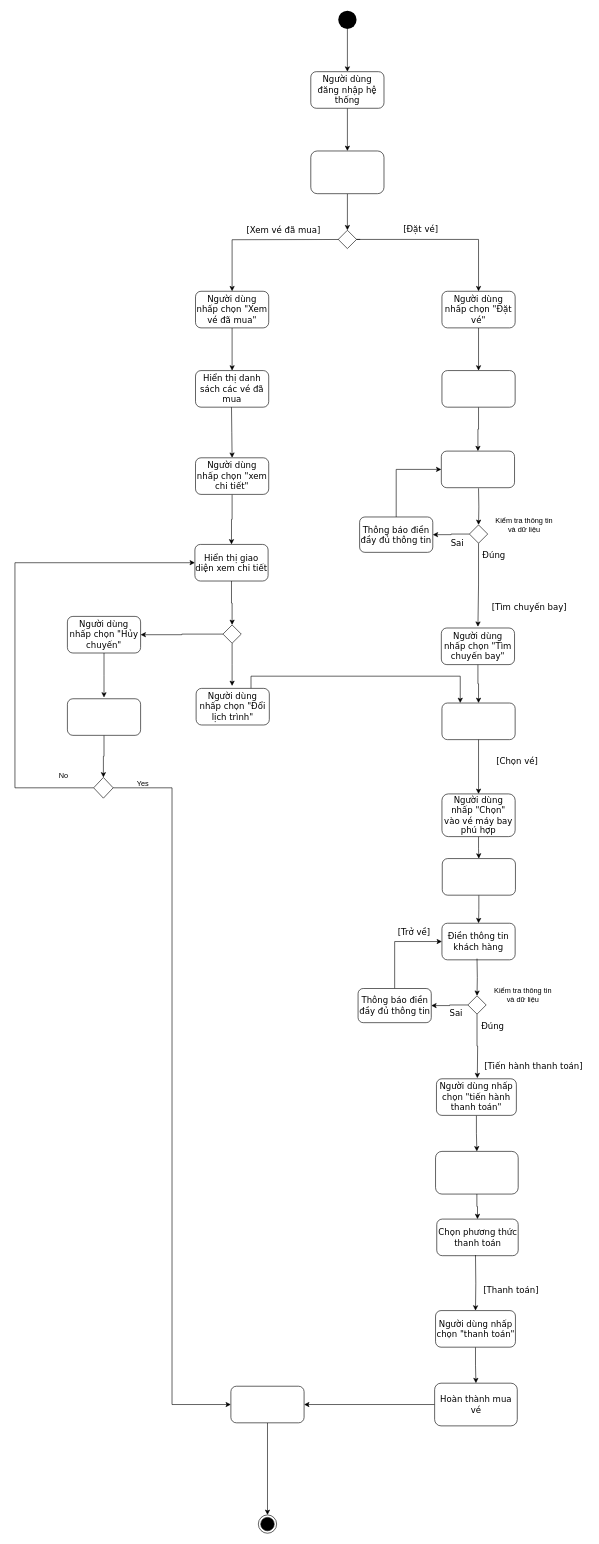
This 599x1544 diagram has some shape labels left out. Here are the shapes that lost their labels. From the top down, the centre of each, then its label:
At (347,172): "Hiển thị giao diện chính".
At (478,388): "Hiển thị giao diện đặt vé".
At (478,469): "Điền đầy đủ thông tin".
At (104,716): "Hiển thị hộp thoại xác nhận hủy".
At (478,721): "Hiển thị giao diện danh sách vé máy bay".
At (478,876): "Hiển thị giao diện điền thông tin khách hàng".
At (476,1172): "Hiển thị giao diện chọn phương thức thanh toán".
At (267,1404): "Hệ thống cập nhật thông tin mới".
